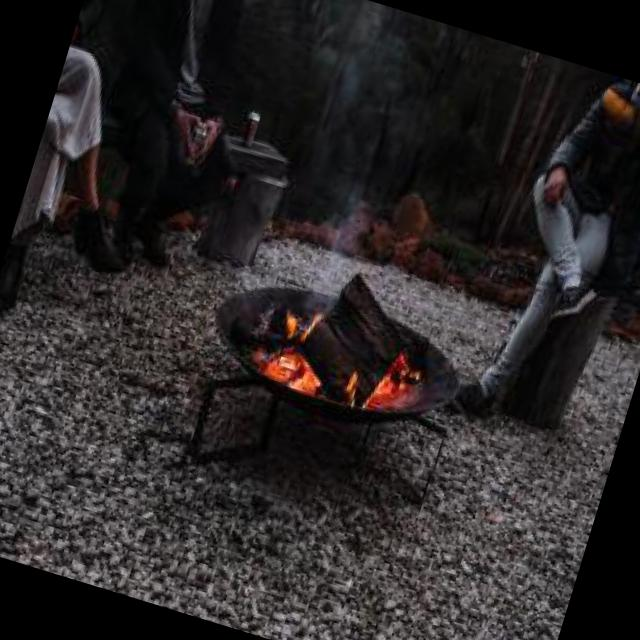fire: (264, 284, 350, 404)
smoke: (272, 0, 446, 298)
